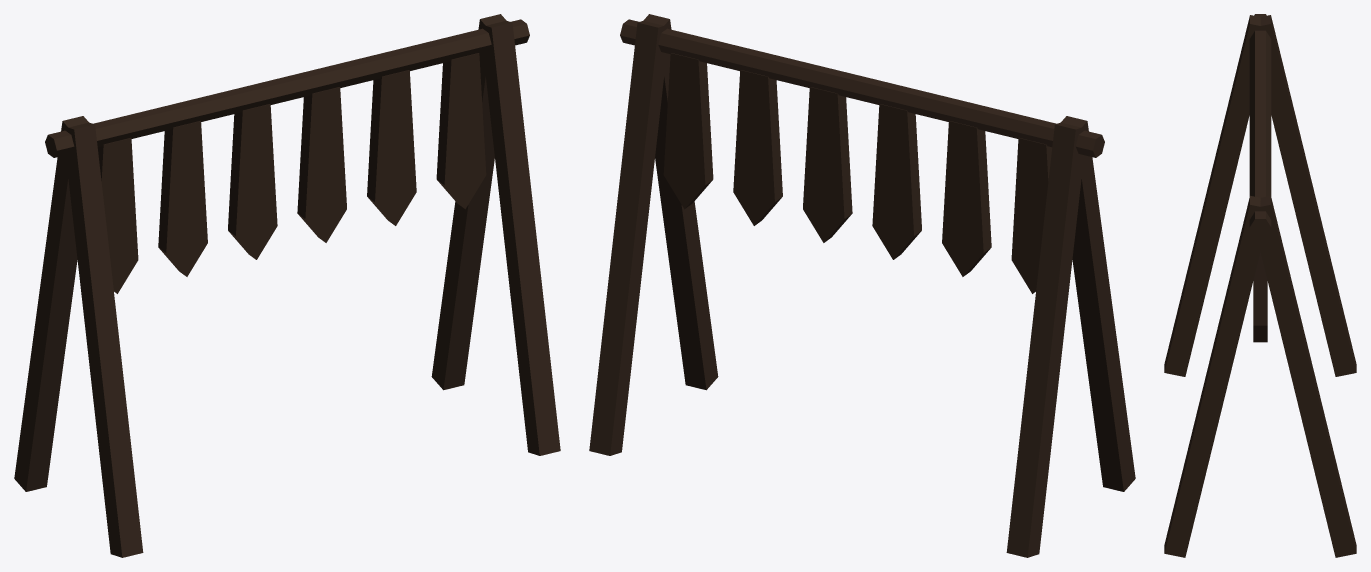
File: fish_rack.fbx
3 views of the same model, side by side, from view 1: azimuth 30°, elevation 25°; view 2: azimuth 150°, elevation 25°; view 3: azimuth 270°, elevation 25° (orthographic). The views are drawn at different scales.
Visible parts, largest first — view 1: fish_rack; view 2: fish_rack; view 3: fish_rack.
Part boxes in pixels (box(x1,y1,x2,y2)): fish_rack: box(14, 14, 560, 557); fish_rack: box(589, 14, 1135, 557); fish_rack: box(1164, 14, 1356, 557).
Size of the model in its own units: 680 by 547 by 269.
